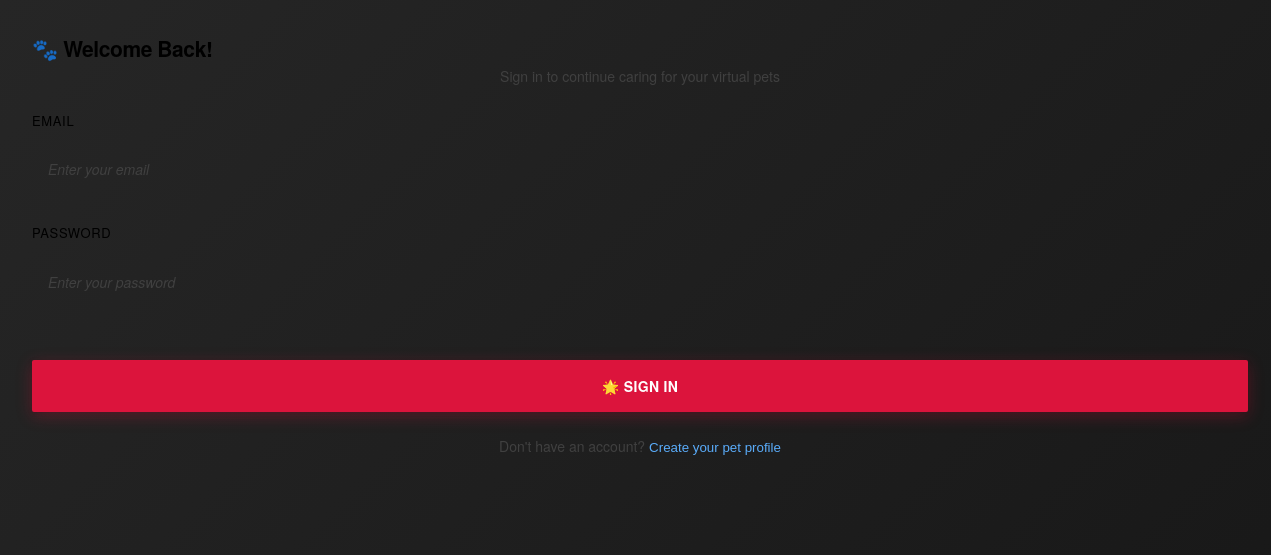
it: LoginForm › displays error message on login failure
Type "test@example.com" into the field labelled "Email" at (640, 169), box [32,147,1248,191]
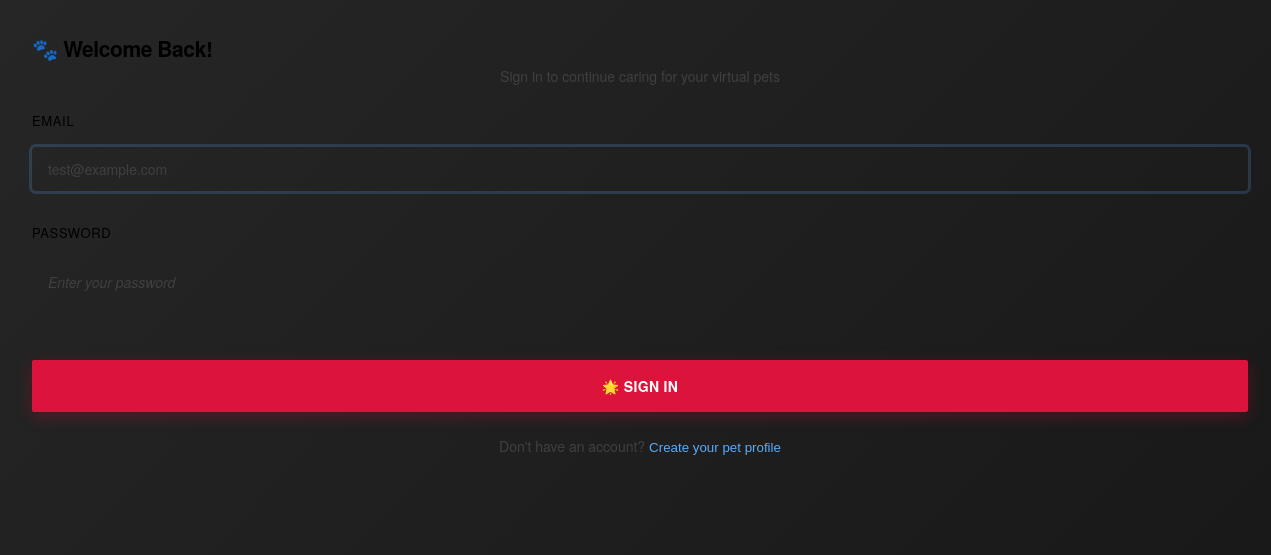
Type "wrongpassword" into the password field labelled "Password" at (640, 282), box [32,260,1248,304]
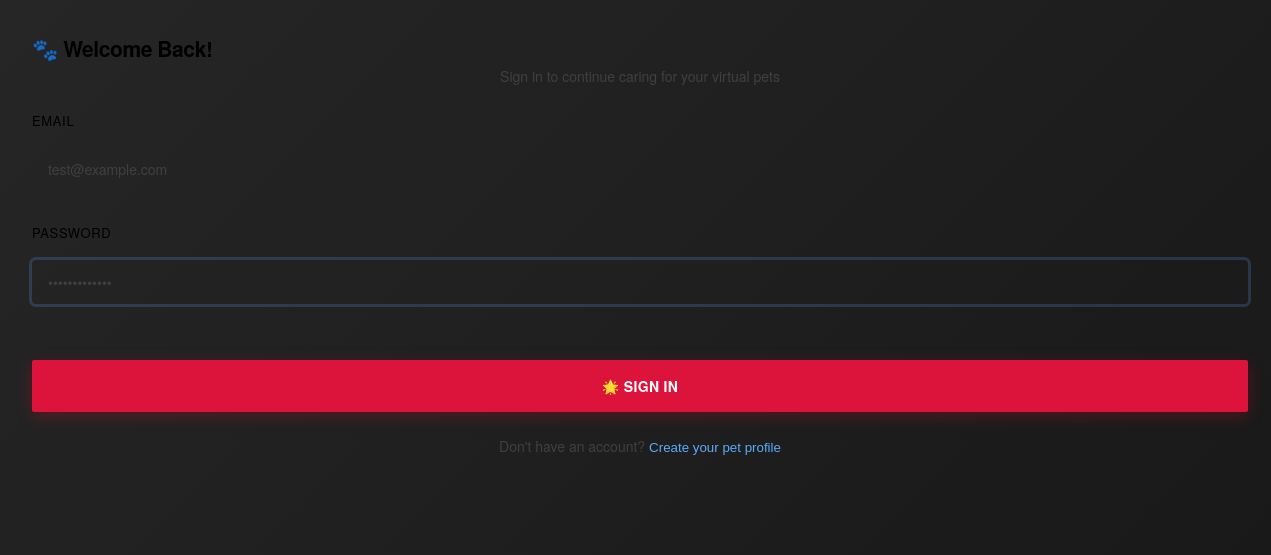
Click the button "🌟 Sign In" at (640, 386), box [32,360,1248,412]
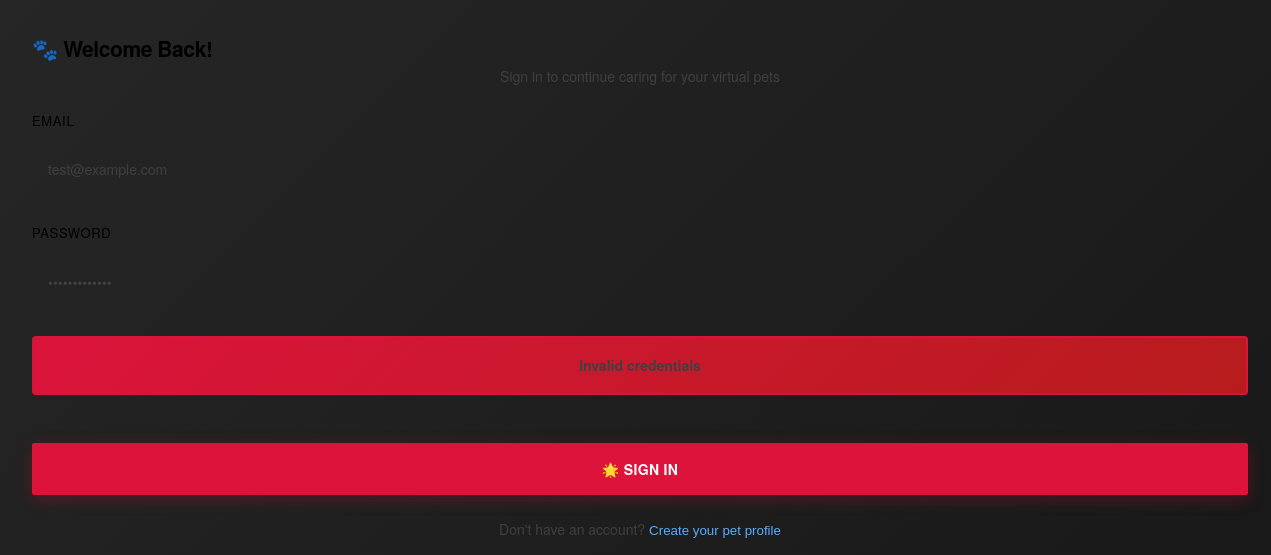
Result: the message reads "Invalid credentials" at [579,355,701,375]
